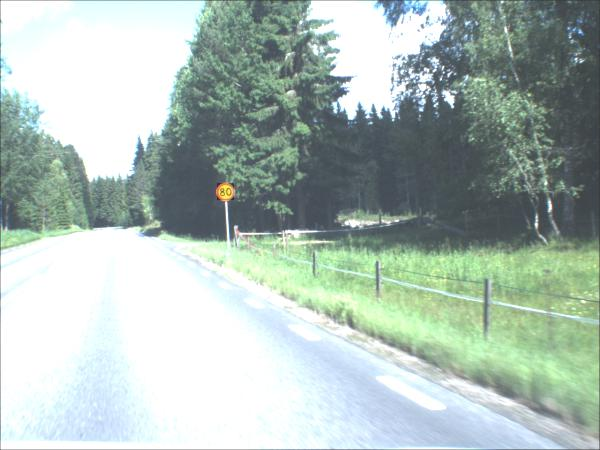80_SIGN: (218, 184, 236, 202)
